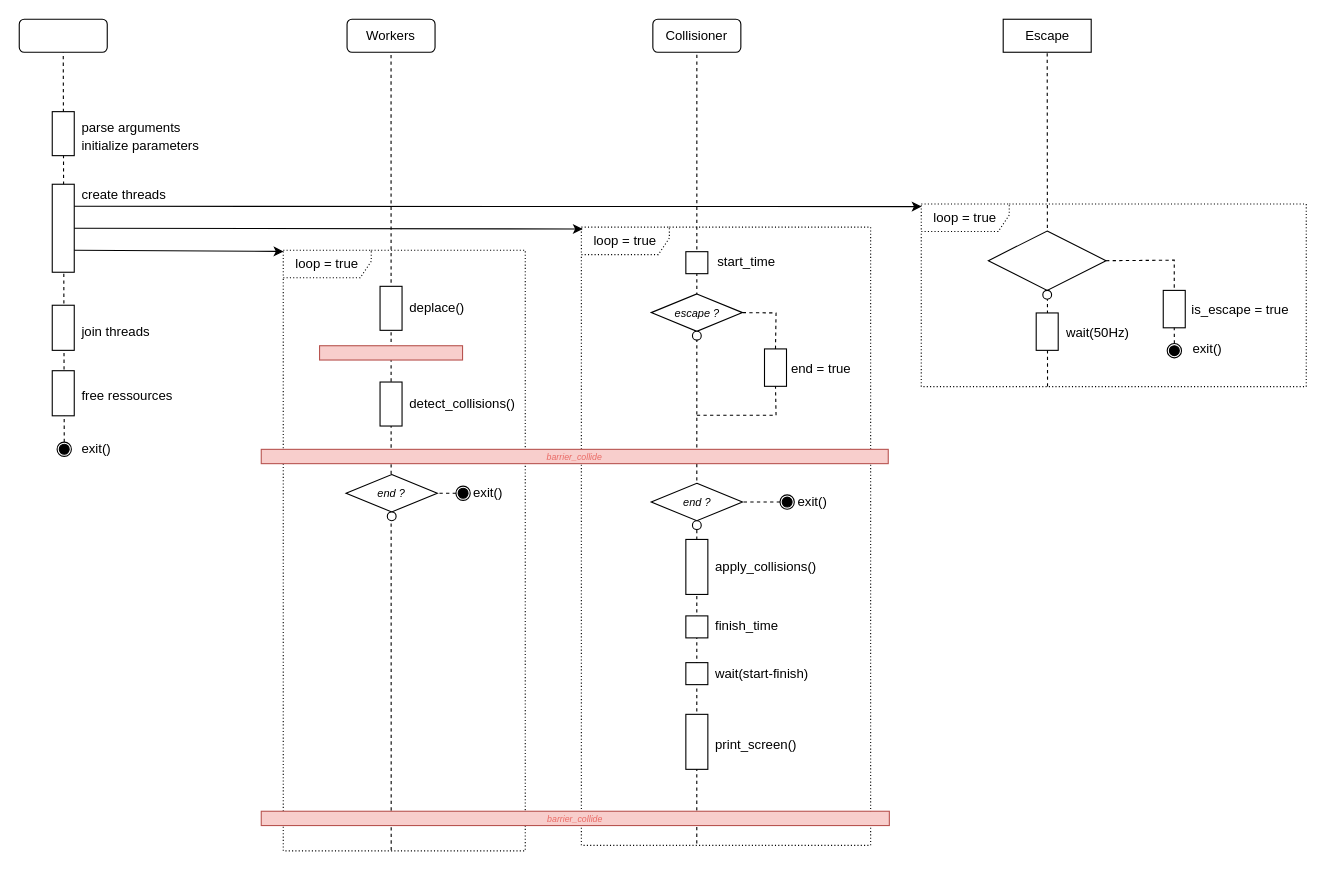
Image size: 1326x871. Some labels were removed from this diagram. Each missing label, with the box of its shape:
barrier_deplace: (318, 345, 463, 360)
escape key pressed ?: (987, 230, 1106, 290)
Main: (18, 18, 107, 52)
